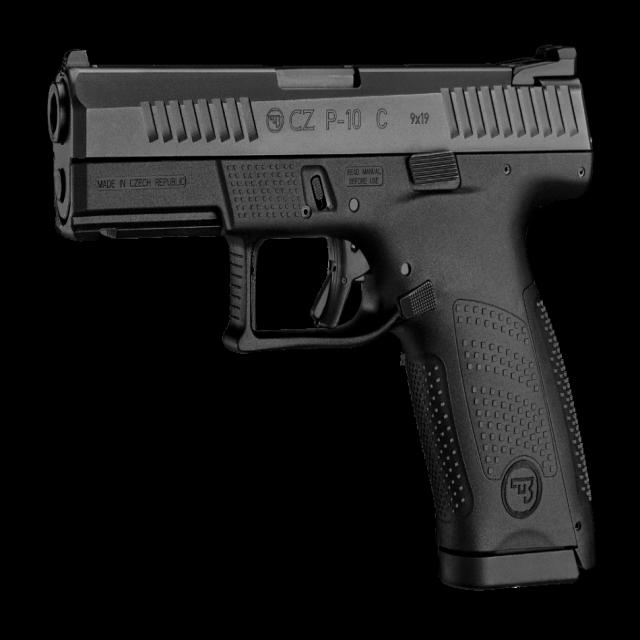HandGun: (45, 46, 605, 606)
